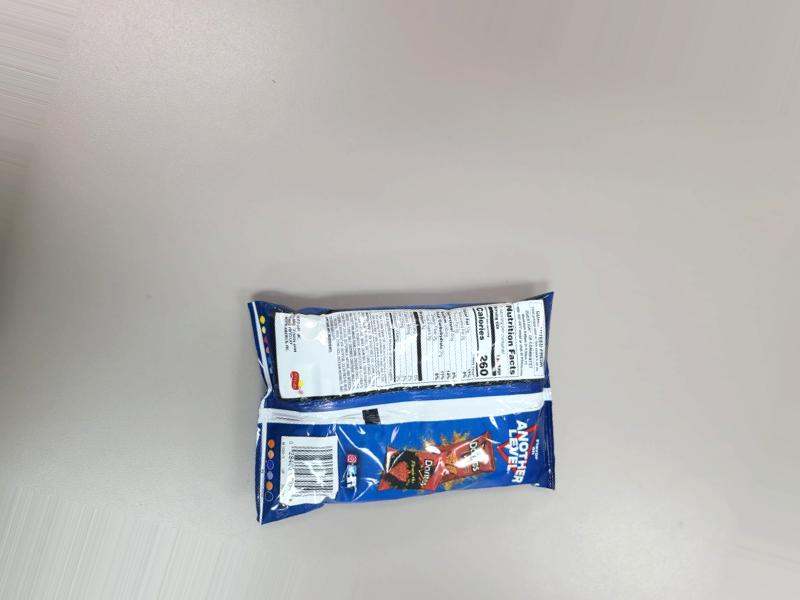doritos: (224, 282, 576, 529)
